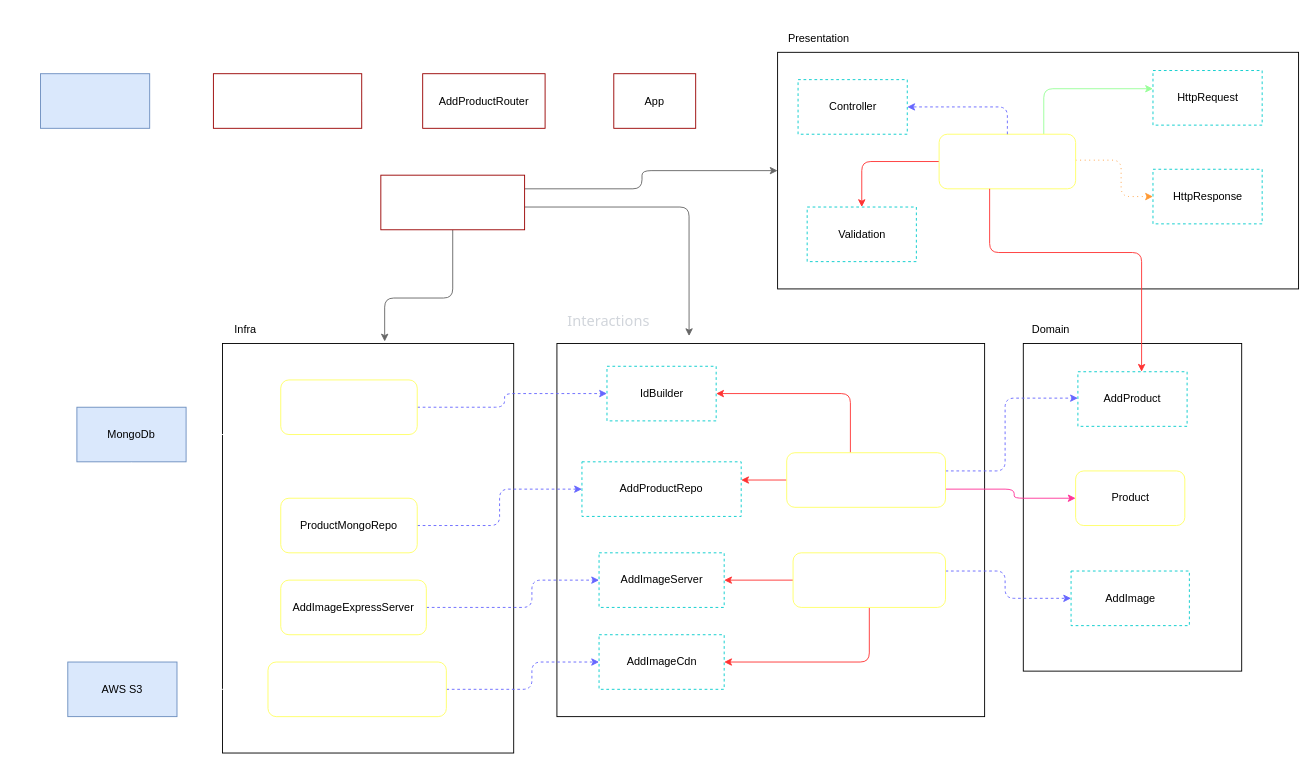
Some shapes in this 1315 by 769 pixel diagram are drawn without their labels. The centre of each missing label's shape, as x and y in pixels:
"AddImageUseCase" goes at pixel 868 579.
"AddProductController" goes at pixel 1007 161.
"AddProductFactory" goes at pixel 452 202.
"AddProductUseCase" goes at pixel 865 479.
"Express" goes at pixel 95 100.
"ExpressRouterAdapter" goes at pixel 287 100.
"MongoObjectIdAdapter" goes at pixel 348 407.
"SaveProdutImageAwsS3Repo" goes at pixel 356 689.
